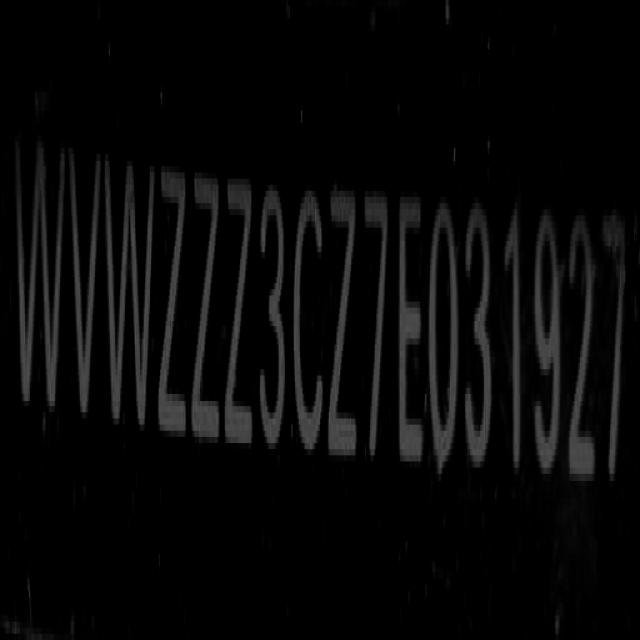0: (429, 187, 459, 484)
1: (504, 202, 525, 489)
2: (566, 206, 596, 497)
3: (463, 194, 493, 485), (258, 173, 288, 464)
7: (361, 171, 392, 472), (602, 193, 628, 494)
9: (531, 200, 563, 488)
C: (295, 173, 327, 470)
E: (398, 187, 428, 474)
V: (68, 142, 103, 426)
W: (104, 146, 156, 450), (12, 134, 67, 415)
Z: (155, 146, 189, 442), (329, 168, 357, 478), (193, 152, 221, 458), (225, 158, 252, 465)
